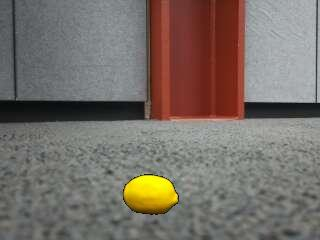lemon: (123, 174, 179, 214)
